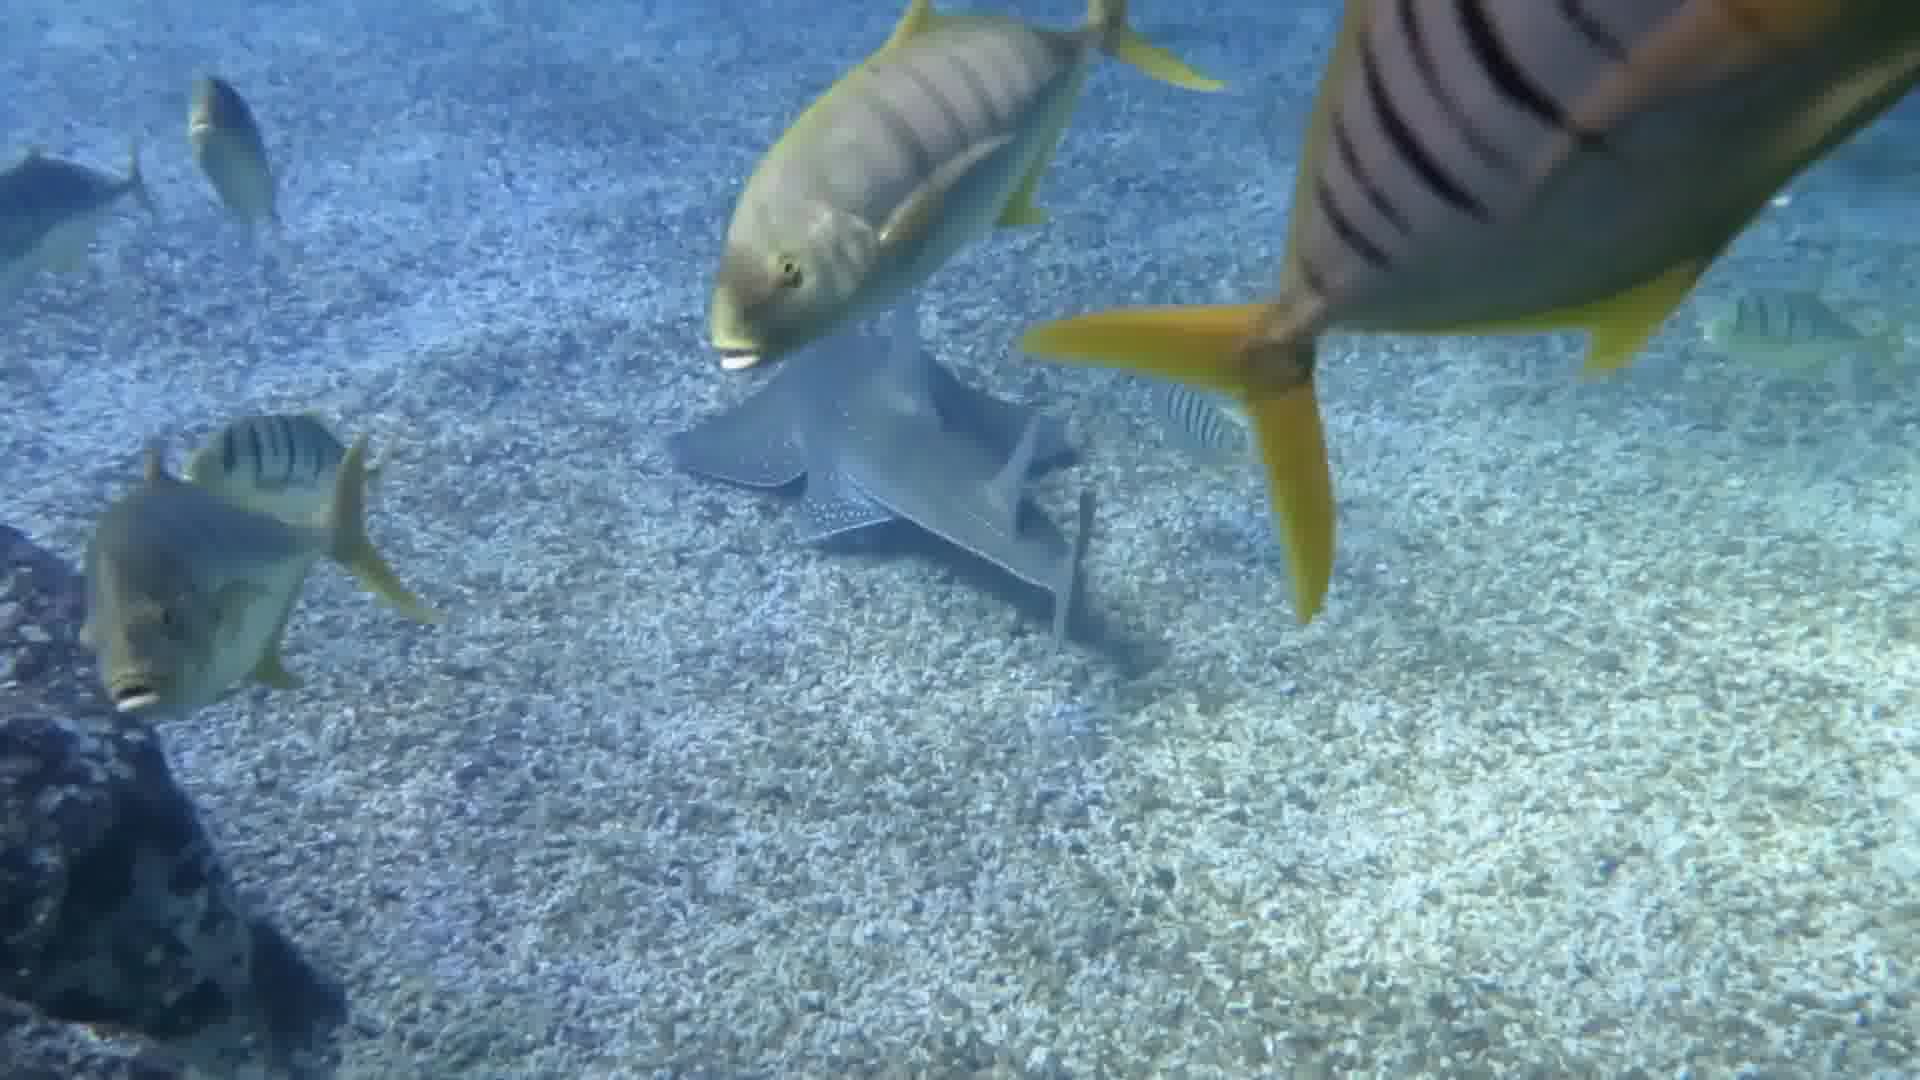Rhychobatus djiddensis: (735, 313, 1063, 592)
